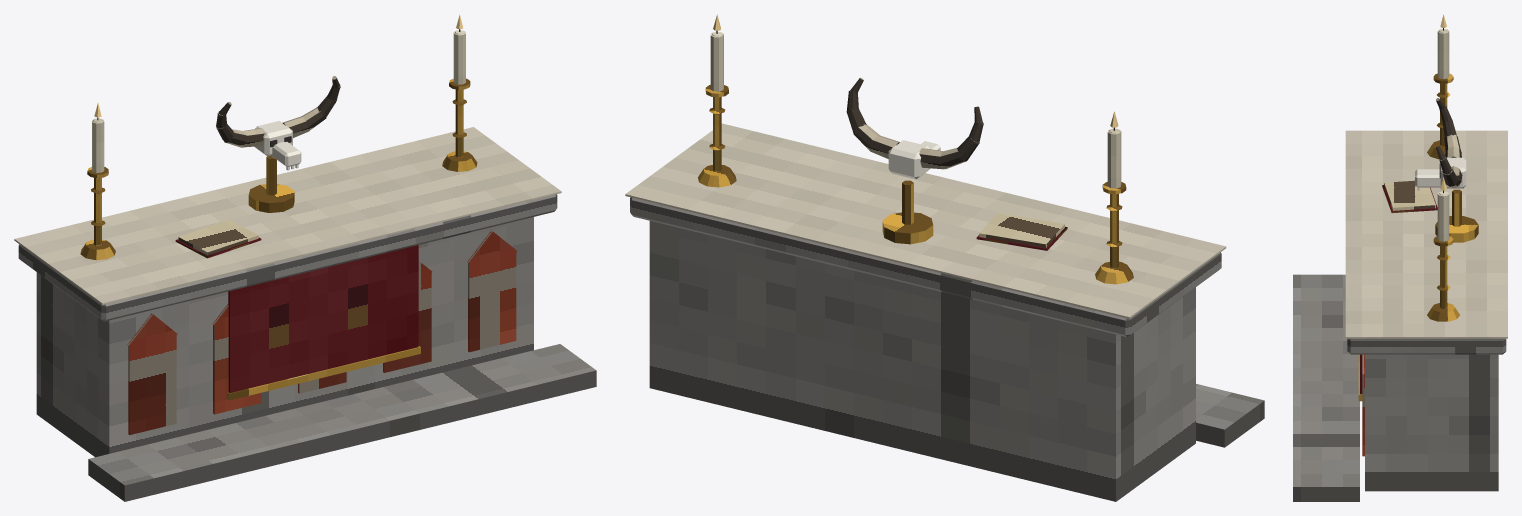
The model's file is chapel_altar.obj.
3 views of the same model, side by side, from view 1: azimuth 30°, elevation 25°; view 2: azimuth 150°, elevation 25°; view 3: azimuth 270°, elevation 25° (orthographic). The views are drawn at different scales.
Visible parts, largest first — view 1: chapel_altar; view 2: chapel_altar; view 3: chapel_altar.
Boxes of the visible parts, <box> form: chapel_altar: <box>14,14,596,501</box>; chapel_altar: <box>625,14,1264,501</box>; chapel_altar: <box>1293,14,1507,501</box>.
Size of the model in its own units: 3 by 1.98 by 1.28.
